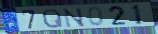0: (87, 6, 105, 28)
1: (131, 4, 145, 25)
2: (107, 5, 130, 27)
7: (21, 9, 37, 30)
N: (63, 6, 87, 28)
Q: (42, 8, 65, 29)
